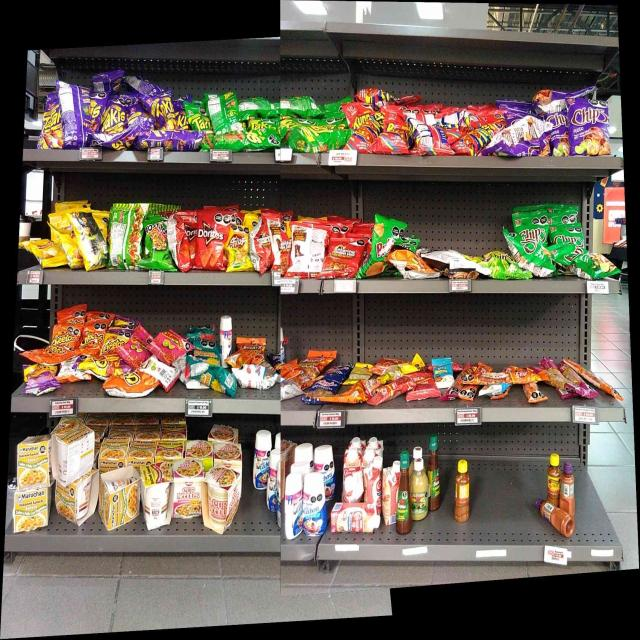bitzAlmendras: (436, 358, 452, 384)
bitzEnchilado90: (412, 373, 434, 399)
bitzEnchilado95: (464, 372, 549, 382)
bitzHabanero: (552, 371, 598, 402)
bokadosCacahuates: (310, 376, 333, 399)
botaneraChilito: (452, 458, 472, 523), (547, 452, 560, 502)
cheetosFlaminHot: (22, 362, 57, 398), (79, 355, 125, 376), (103, 329, 129, 345)
cheetosOriginal: (102, 378, 156, 397), (53, 324, 82, 347), (82, 320, 100, 353)
chipsFuego: (574, 99, 609, 155), (553, 113, 571, 155)
chipsJalapeno: (565, 252, 619, 280), (517, 241, 546, 277), (514, 214, 548, 237), (552, 225, 583, 242)
chipsPapatinas: (484, 249, 514, 282)
churrumais: (152, 328, 185, 360)
delPrimoSalsa: (413, 456, 428, 521)
doritosNacho: (198, 212, 226, 270)
fritosLimon: (230, 225, 248, 272)
leoCacahuates: (239, 364, 279, 391)
leoMix: (298, 346, 327, 369), (238, 336, 264, 355)
maruchanPollo: (99, 471, 138, 529), (12, 489, 52, 533), (55, 484, 96, 525), (16, 438, 51, 486)
maruchanRes: (139, 465, 171, 528)
nestleCarnation: (331, 501, 382, 537), (363, 456, 381, 502)
nestleLechera: (302, 475, 328, 537), (284, 472, 301, 540), (252, 428, 268, 487), (218, 314, 232, 358)
nissinRes: (204, 466, 243, 532), (173, 462, 202, 519)
productoAtras: (112, 203, 142, 269), (61, 81, 88, 149), (54, 440, 94, 480), (81, 209, 108, 267), (410, 113, 446, 155), (292, 224, 320, 277), (433, 246, 477, 278), (494, 116, 550, 140), (143, 133, 200, 151), (172, 215, 190, 272), (210, 92, 235, 131), (240, 95, 280, 115), (282, 96, 321, 114), (126, 72, 156, 93), (158, 365, 178, 388)
rancheritos: (329, 236, 356, 278), (252, 226, 270, 274)
rufflesQueso: (373, 217, 389, 278)
runners: (458, 127, 486, 156), (348, 127, 372, 153), (345, 102, 368, 124)
sabritasOriginal: (20, 239, 64, 267)
salsaBufalo: (396, 451, 411, 535), (430, 434, 440, 513)
semillasGirasol: (191, 365, 236, 396)
tajinDulce: (531, 503, 573, 538), (562, 461, 576, 501)
takisFuego: (41, 92, 58, 150), (104, 96, 126, 129), (152, 94, 176, 124), (90, 92, 102, 129)
takisOriginal: (290, 123, 345, 150), (215, 134, 277, 148), (187, 103, 207, 126)
tostitos: (144, 218, 167, 270)
